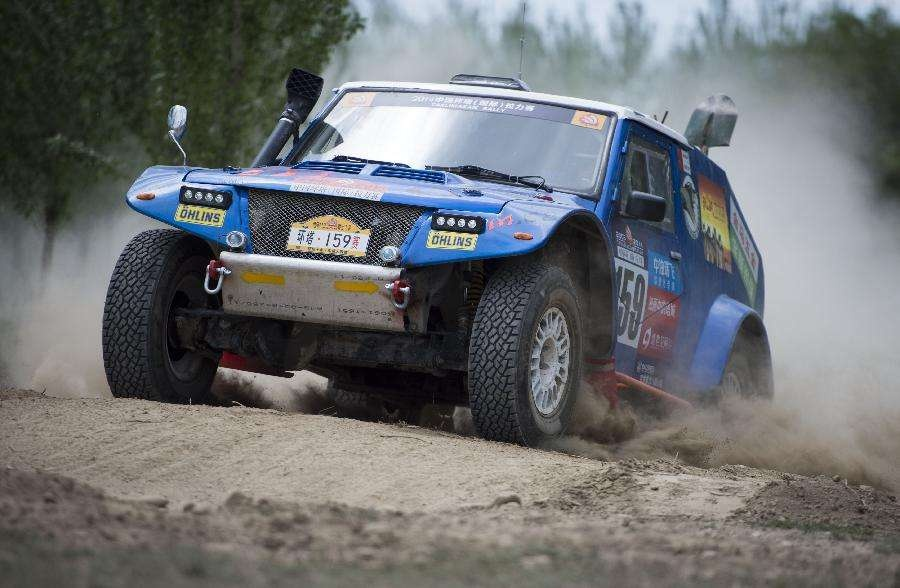racing car: (109, 21, 789, 495)
